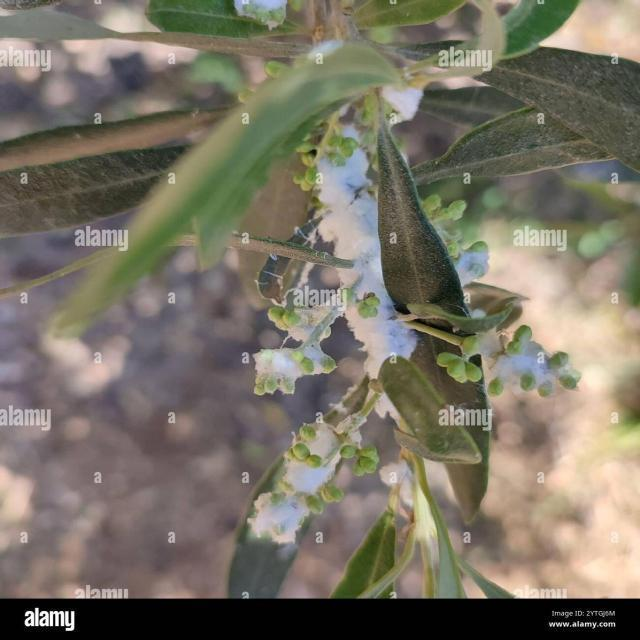Psyllid: (316, 143, 418, 379), (246, 398, 378, 544), (438, 324, 580, 398), (254, 306, 338, 395), (381, 458, 438, 544), (435, 222, 489, 288), (232, 0, 288, 33), (382, 82, 418, 125)
